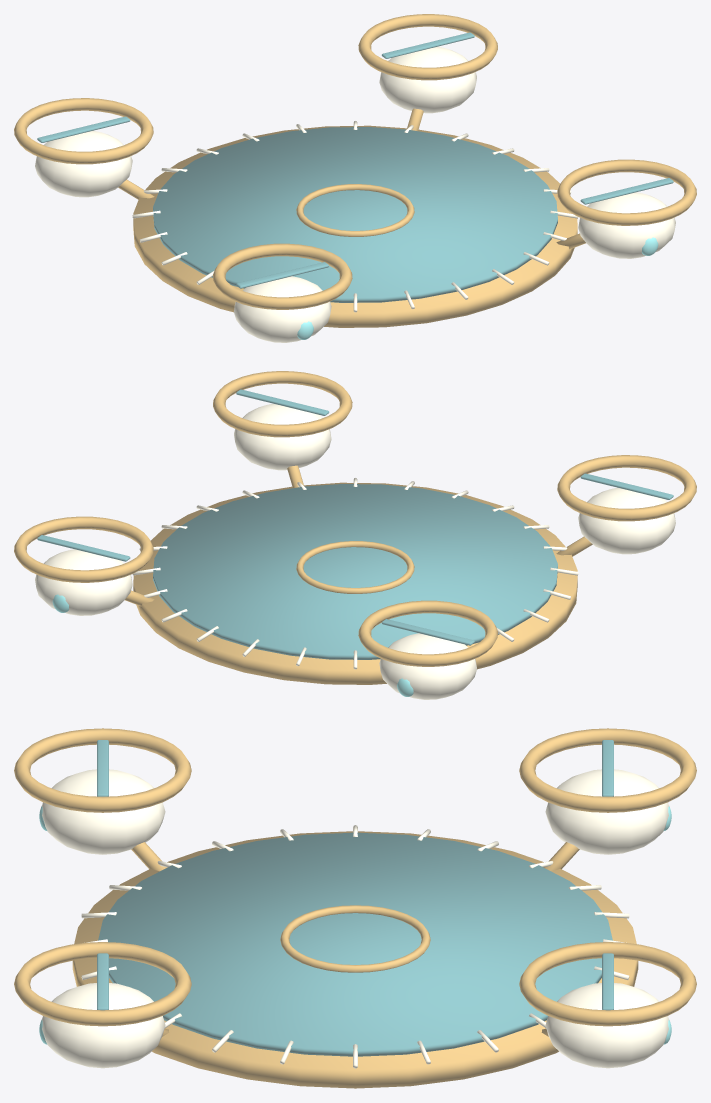
The model's file is sky_drone_pad.glb.
3 views of the same model, one above another, from view 1: azimuth 30°, elevation 25°; view 2: azimuth 150°, elevation 25°; view 3: azimuth 270°, elevation 25° (orthographic). The views are drawn at different scales.
Visible parts, largest first — view 1: sky_drone_pad_rigmesh_2, sky_drone_pad_rigmesh_0, sky_drone_pad_rigmesh_5, sky_drone_pad_rigmesh_3, sky_drone_pad_rigmesh_4, sky_drone_pad_rigmesh_1; view 2: sky_drone_pad_rigmesh_2, sky_drone_pad_rigmesh_0, sky_drone_pad_rigmesh_1, sky_drone_pad_rigmesh_4, sky_drone_pad_rigmesh_3, sky_drone_pad_rigmesh_5; view 3: sky_drone_pad_rigmesh_2, sky_drone_pad_rigmesh_0, sky_drone_pad_rigmesh_1, sky_drone_pad_rigmesh_5, sky_drone_pad_rigmesh_3, sky_drone_pad_rigmesh_4.
Boxes of the visible parts, x1,y1,x2,y2 form: sky_drone_pad_rigmesh_2: (153,127,557,302); sky_drone_pad_rigmesh_0: (14,14,696,342); sky_drone_pad_rigmesh_5: (580,178,673,204); sky_drone_pad_rigmesh_3: (37,116,130,142); sky_drone_pad_rigmesh_4: (236,262,328,288); sky_drone_pad_rigmesh_1: (381,32,474,58); sky_drone_pad_rigmesh_2: (153,484,557,659); sky_drone_pad_rigmesh_0: (14,371,696,699); sky_drone_pad_rigmesh_1: (37,535,130,561); sky_drone_pad_rigmesh_4: (580,473,673,499); sky_drone_pad_rigmesh_3: (382,619,474,645); sky_drone_pad_rigmesh_5: (236,389,329,415); sky_drone_pad_rigmesh_2: (98,832,612,1056); sky_drone_pad_rigmesh_0: (14,728,696,1088); sky_drone_pad_rigmesh_1: (602,953,613,1010); sky_drone_pad_rigmesh_5: (97,953,108,1010); sky_drone_pad_rigmesh_3: (602,740,613,796); sky_drone_pad_rigmesh_4: (97,740,108,796).
Size of the model in its own units: 6.76 by 1.07 by 6.76.
